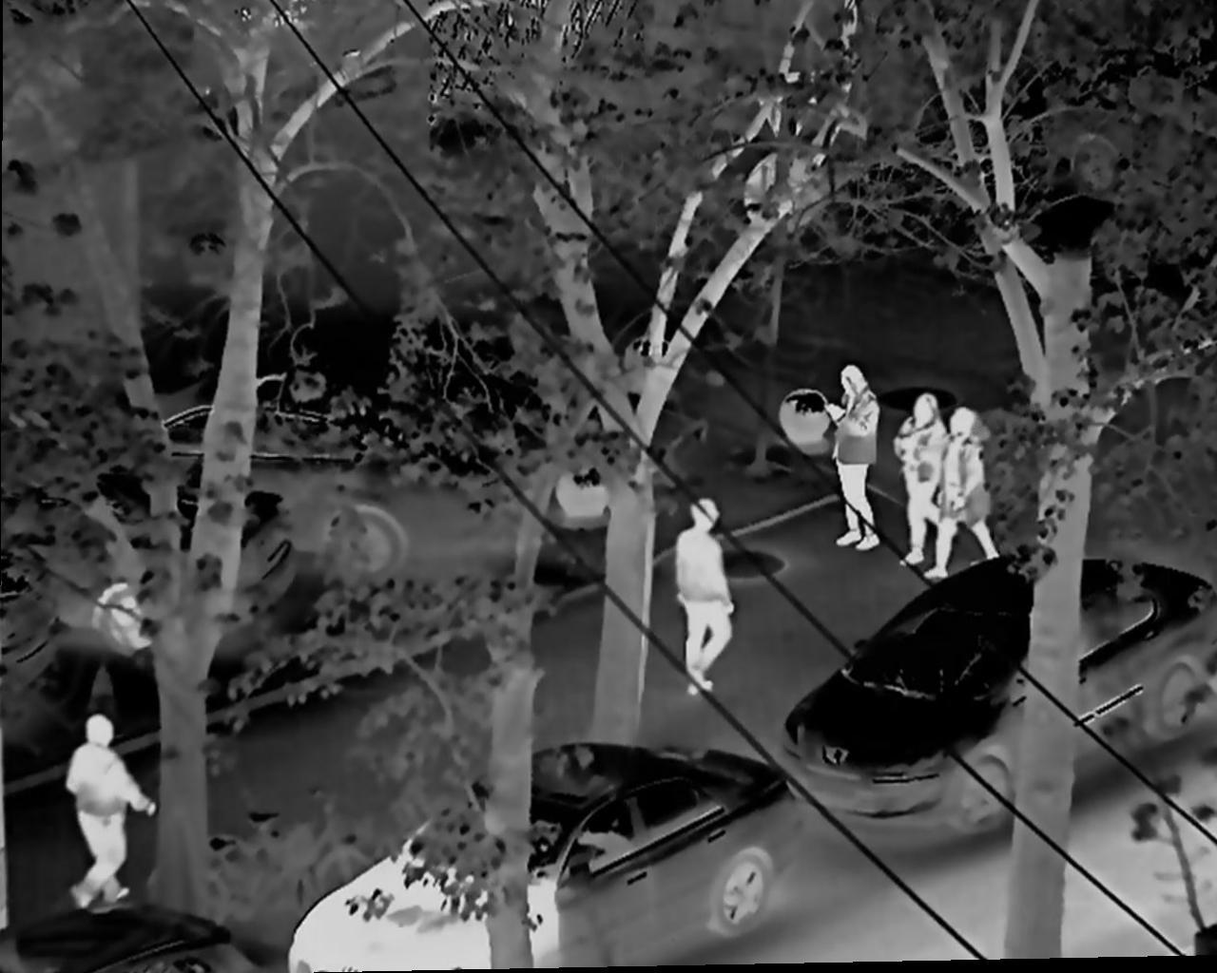person: (64, 715, 157, 908), (923, 401, 1000, 579), (673, 500, 733, 697), (824, 362, 877, 552), (893, 391, 946, 567)
